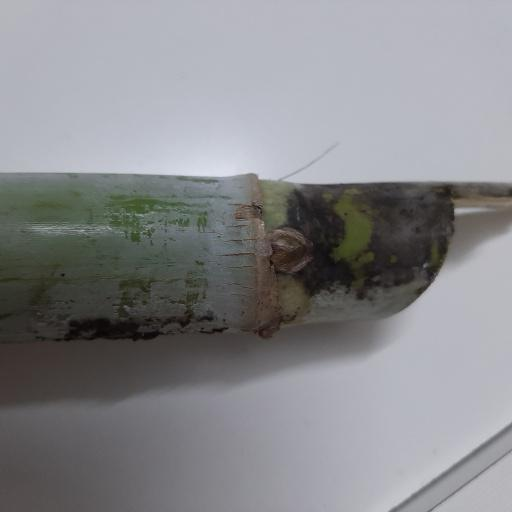Bud: (273, 230, 308, 267)
